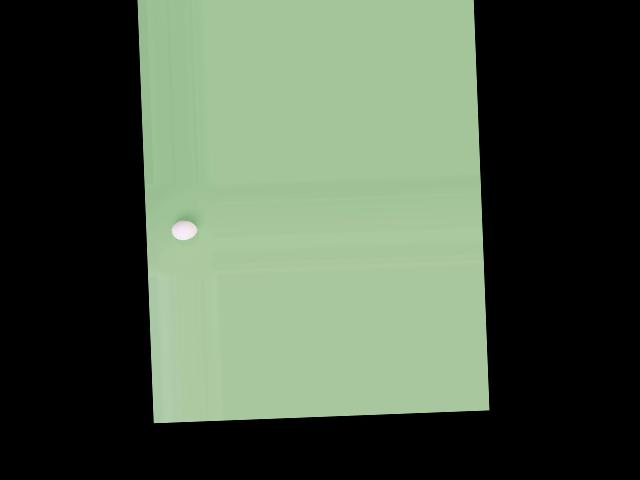egg: (170, 220, 197, 240)
